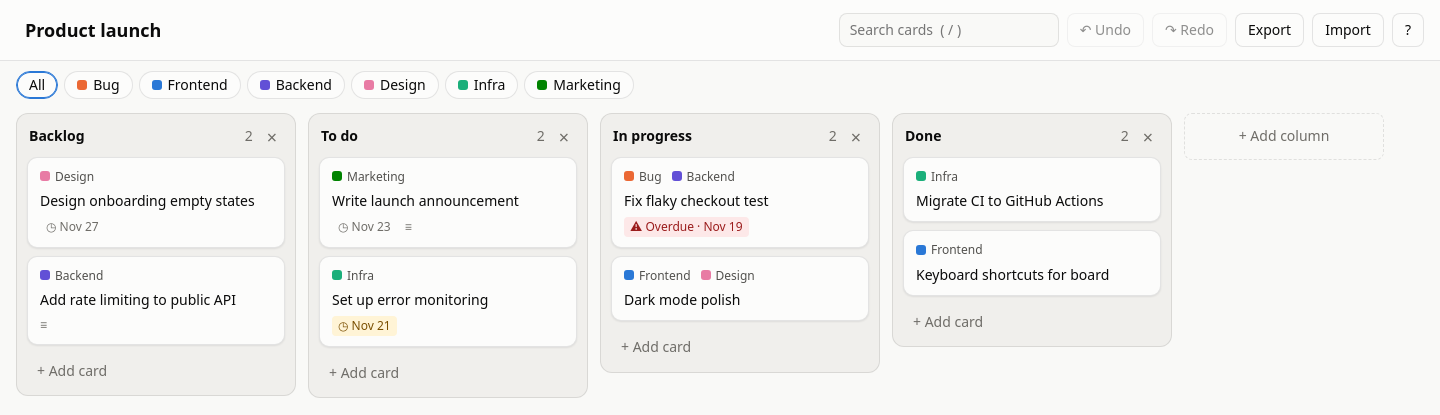
Test: <App /> › filters cards by label
The image size is (1440, 415).
Step 1. Click the button "Infra" → (482, 85), box [445,71,518,99]
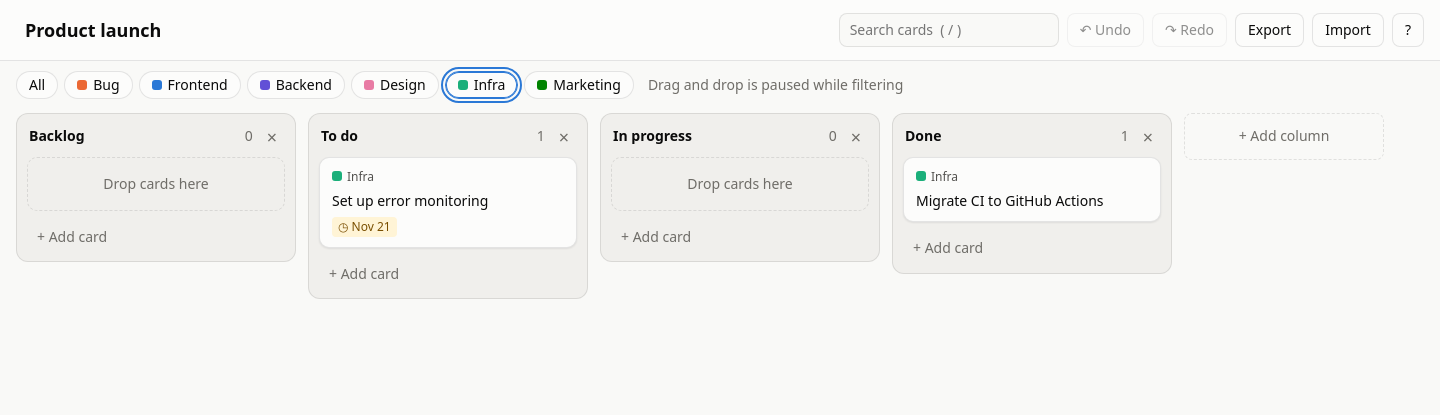
Check: the text "Set up error monitoring" is shown, box [332,191,488,210]
Check: the button "Write launch announcement" is gone
